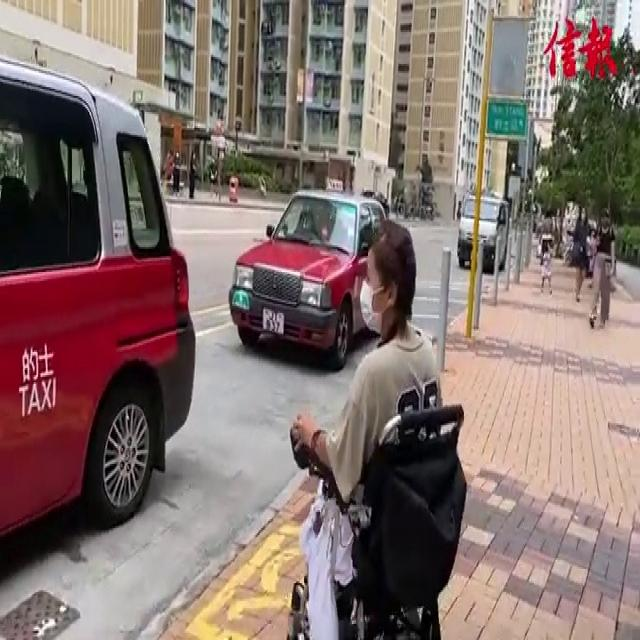wheelchairs: (285, 368, 472, 640)
